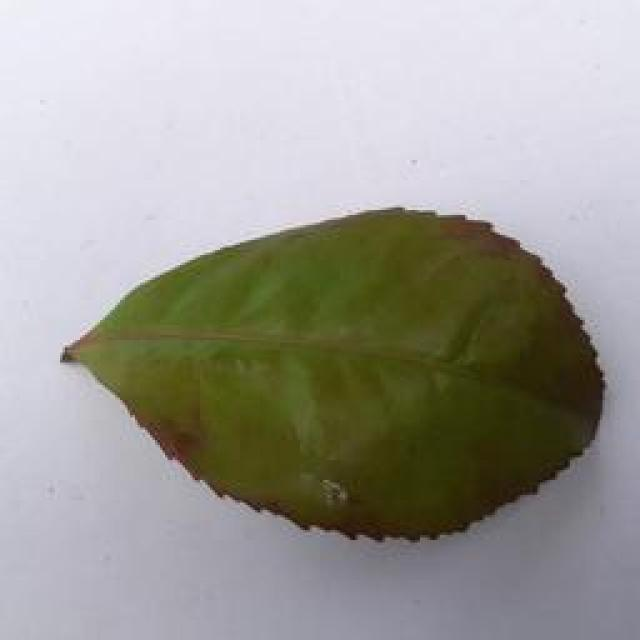Red Leaf Spot: (60, 207, 616, 533)
